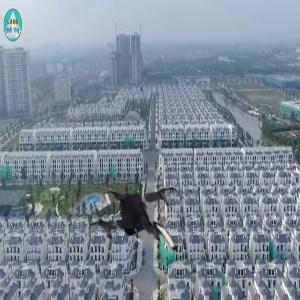drone: (85, 171, 197, 283)
